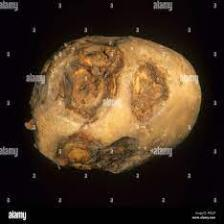Diseased-fungal potato: (27, 34, 202, 176)
